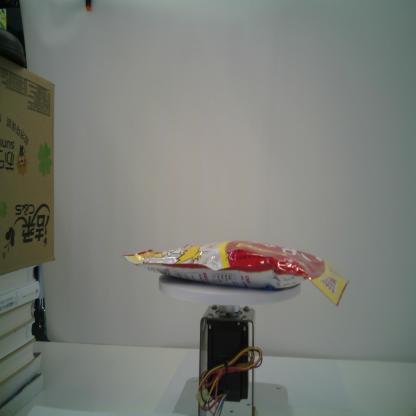Instant Drink: (122, 236, 352, 307)
